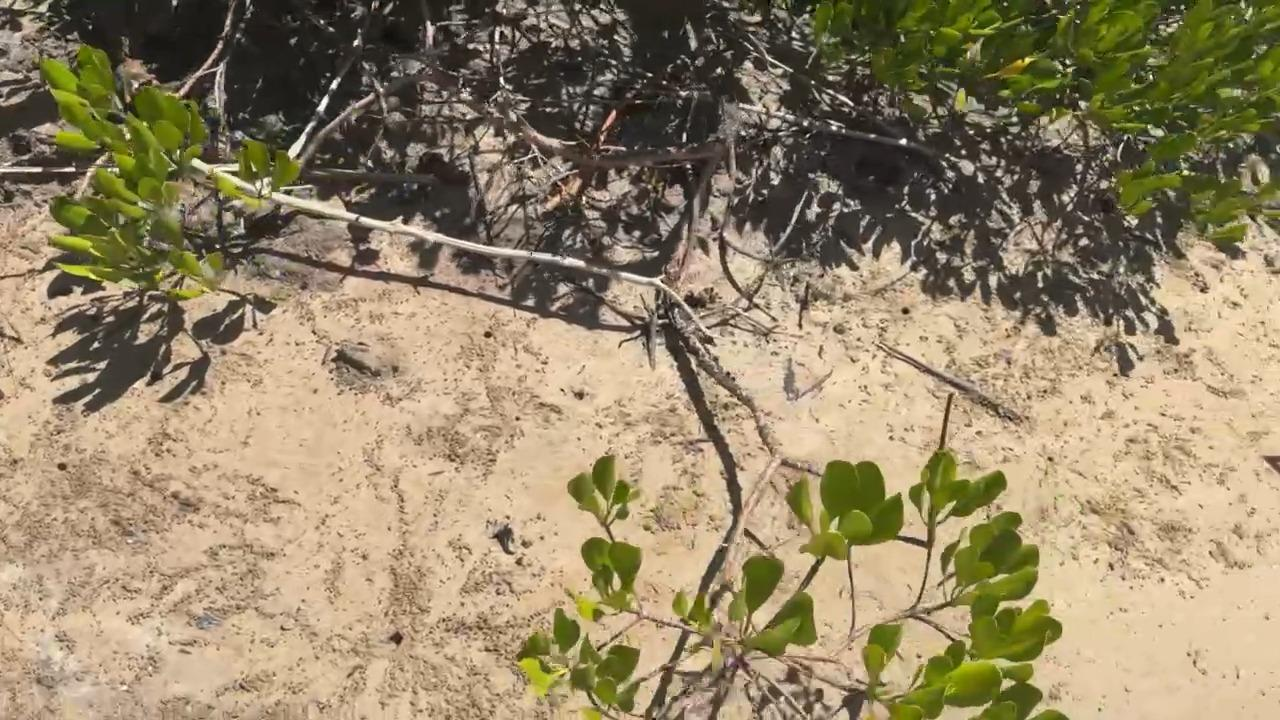Tree: (926, 390, 955, 548), (0, 309, 25, 346)
